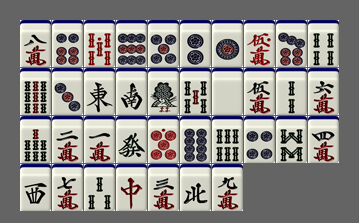0m: (244, 20, 275, 67)
0p: (148, 116, 179, 163)
0s: (84, 20, 115, 67)
1m: (84, 116, 115, 163)
1p: (212, 20, 243, 67)
1s: (148, 68, 179, 115)
1z: (84, 68, 115, 115)
2m: (52, 116, 83, 163)
2p: (180, 20, 211, 67)
2s: (276, 68, 307, 115)
2z: (116, 68, 147, 115)
3m: (148, 164, 179, 211)
3p: (52, 68, 83, 115)
3s: (84, 164, 115, 211)
3z: (20, 164, 51, 211)
4m: (308, 116, 339, 163)
4p: (244, 116, 275, 163)
4s: (308, 20, 339, 67)
4z: (180, 164, 211, 211)
5m: (244, 68, 275, 115)
5p: (148, 20, 179, 67)
5s: (180, 68, 211, 115)
5z: (212, 68, 243, 115)
6m: (308, 68, 339, 115)
6p: (52, 20, 83, 67)
6s: (212, 116, 243, 163)
6z: (116, 116, 147, 163)
7m: (52, 164, 83, 211)
7p: (276, 20, 307, 67)
7s: (20, 116, 51, 163)
7z: (116, 164, 147, 211)
8m: (20, 20, 51, 67)
8p: (180, 116, 211, 163)
8s: (276, 116, 307, 163)
9m: (212, 164, 243, 211)
9p: (116, 20, 147, 67)
9s: (20, 68, 51, 115)
